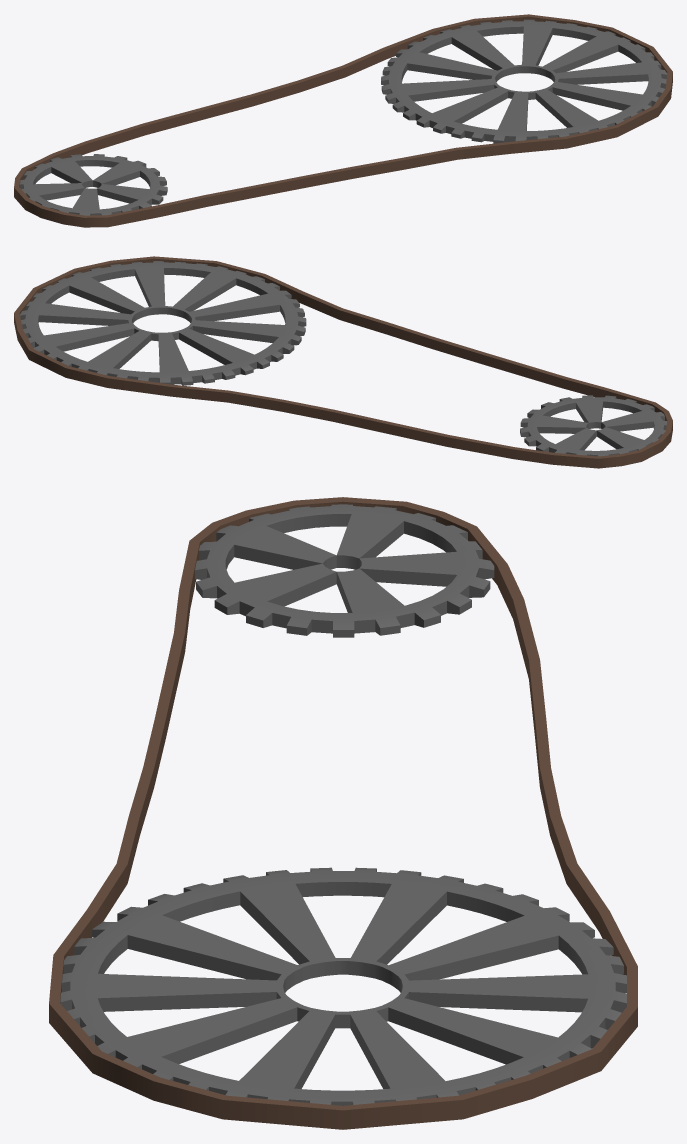
The model's file is Band.fbx.
3 renders of one model, top to bottom at view 1: azimuth 30°, elevation 25°; view 2: azimuth 150°, elevation 25°; view 3: azimuth 270°, elevation 25°, orthographic. The views are drawn at different scales.
Visible parts, largest first — view 1: Band; view 2: Band; view 3: Band.
Part boxes in pixels (x1,y1,x2,y2): Band: [14, 14, 672, 227]; Band: [14, 256, 672, 468]; Band: [49, 497, 637, 1129].
Size of the model in its own units: 7.23 by 0.1068 by 2.94.
